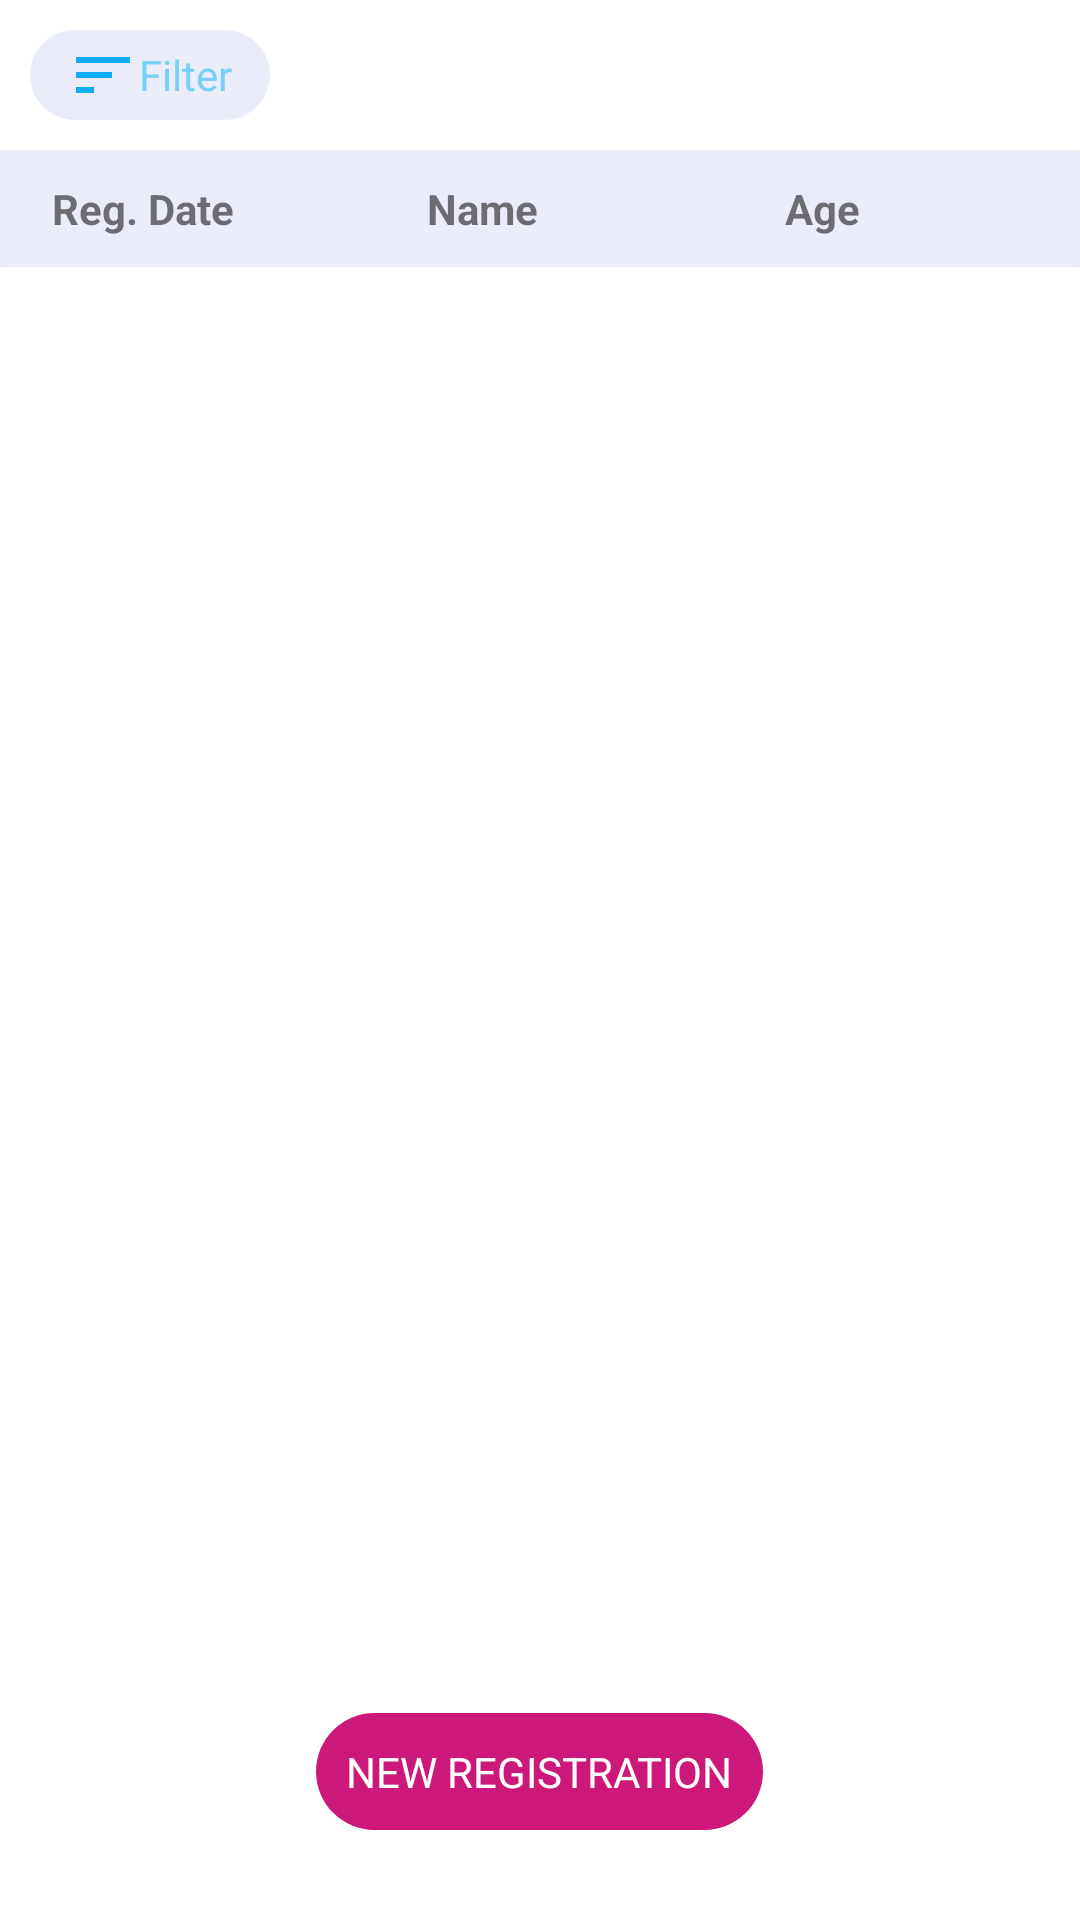

Where to tap for icons on this 1080px×1920px app screen, as [x,y]:
sort: [103,75]
